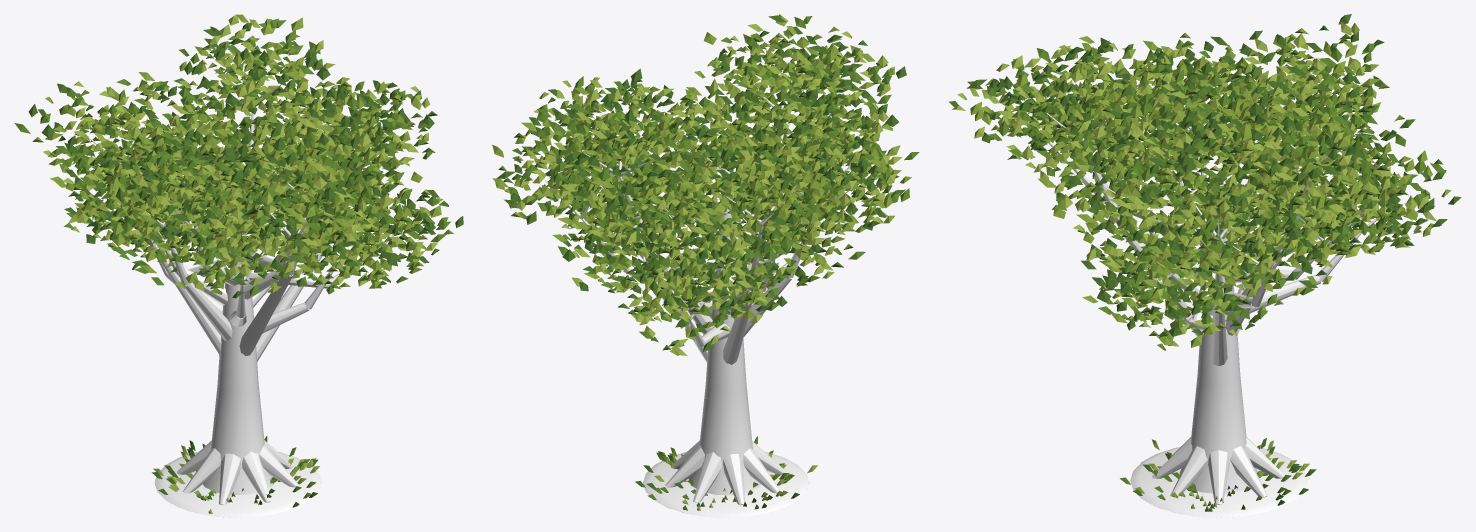
The model's file is 18_deciduous_tree.glb.
The picture shows the model from 3 angles, left to right: view 1: azimuth 30°, elevation 25°; view 2: azimuth 150°, elevation 25°; view 3: azimuth 270°, elevation 25°; orthographic projection. The views are drawn at different scales.
Visible parts, largest first — view 1: 18_deciduous_tree; view 2: 18_deciduous_tree; view 3: 18_deciduous_tree.
Boxes of the visible parts, bbox=[...] form: 18_deciduous_tree: bbox=[14, 14, 463, 517]; 18_deciduous_tree: bbox=[492, 14, 919, 517]; 18_deciduous_tree: bbox=[948, 14, 1461, 517].
Bounding box in the file's own units: 4.33 × 4.54 × 4.92.
